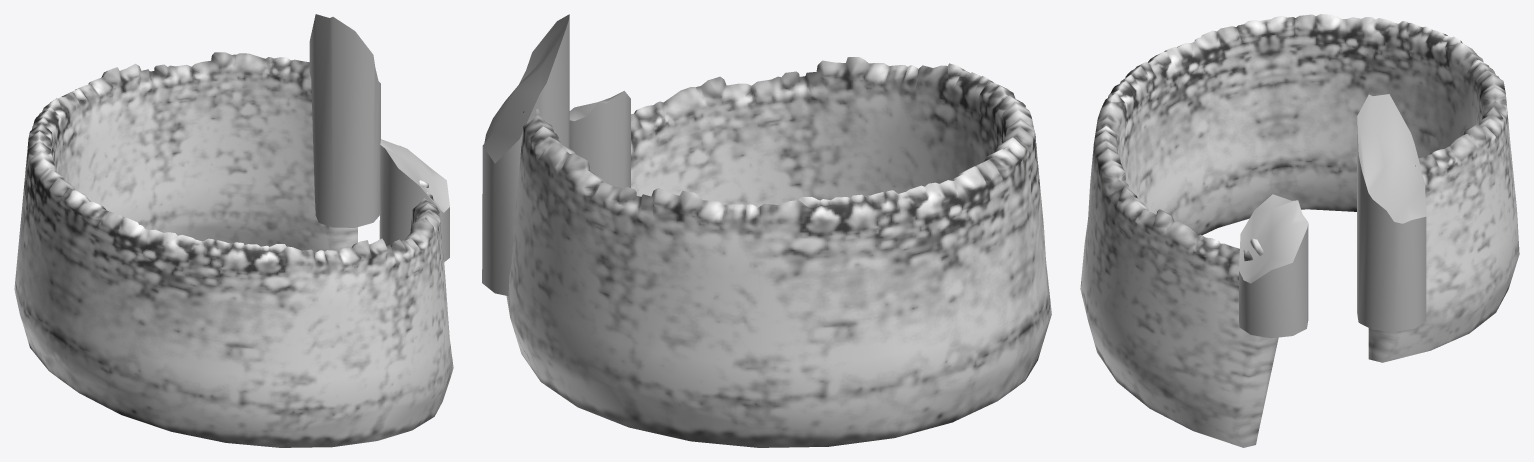
The model's file is Ruins_RoundTower00.fbx.
3 views of the same model, side by side, from view 1: azimuth 30°, elevation 25°; view 2: azimuth 150°, elevation 25°; view 3: azimuth 270°, elevation 25° (orthographic). The views are drawn at different scales.
Visible parts, largest first — view 1: Ruins_RoundTower00, Ruins_Column02, Ruins_Column08; view 2: Ruins_RoundTower00, Ruins_Column02, Ruins_Column08; view 3: Ruins_RoundTower00, Ruins_Column02, Ruins_Column08.
Boxes of the visible parts, box(x1,y1,x2,y2) form: Ruins_RoundTower00: box(14, 52, 453, 447); Ruins_Column02: box(309, 14, 380, 227); Ruins_Column08: box(379, 139, 449, 261); Ruins_RoundTower00: box(506, 57, 1051, 447); Ruins_Column02: box(482, 14, 569, 295); Ruins_Column08: box(569, 91, 630, 188); Ruins_RoundTower00: box(1080, 14, 1519, 447); Ruins_Column02: box(1357, 94, 1426, 331); Ruins_Column08: box(1239, 194, 1308, 338).
Size of the model in its own units: 685 by 565 by 670.
